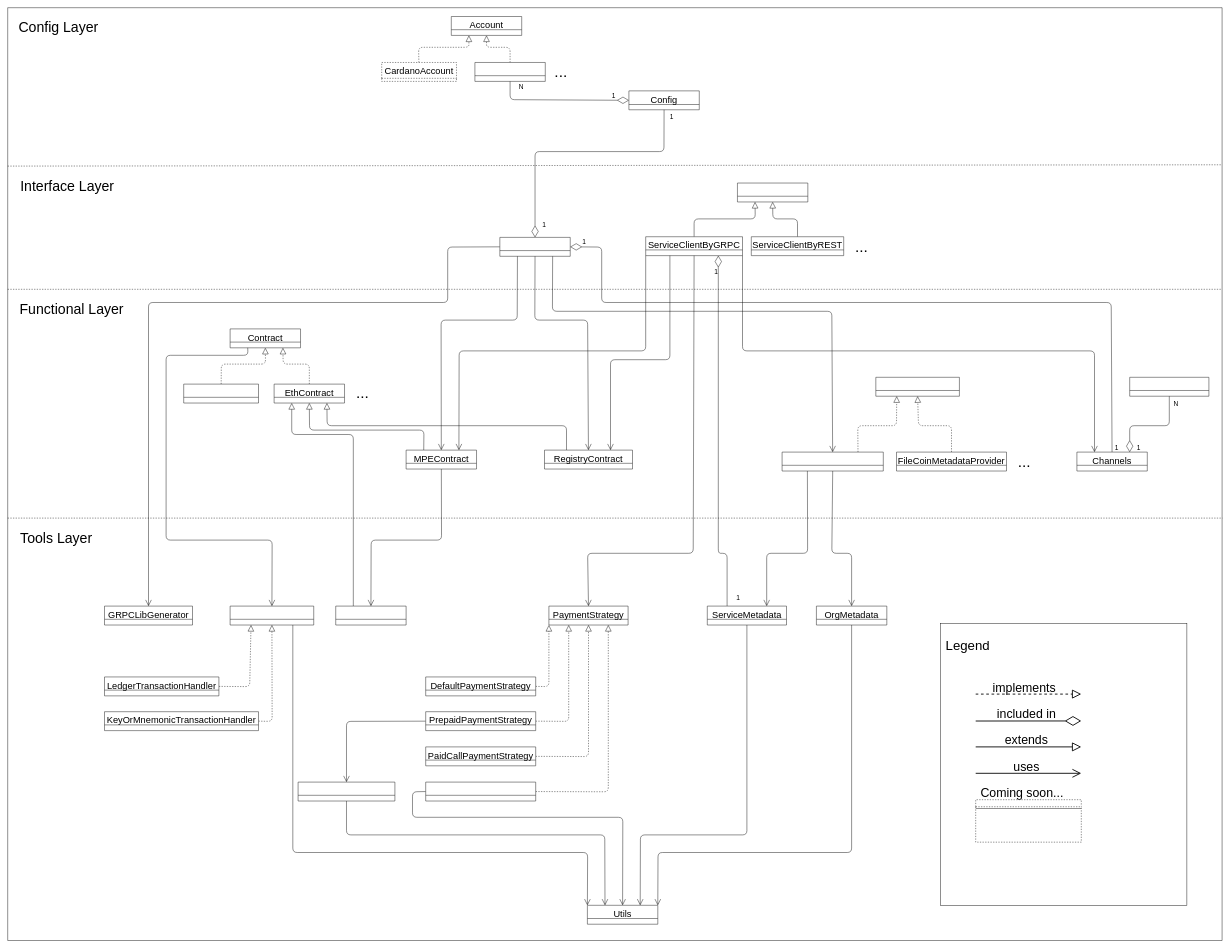
Some shapes in this 1231 by 949 pixel diagram are drawn without their labels. Each missing label, with the centre of its shape:
"AGIXContract" goes at pixel 370 615.
"CardanoContract" goes at pixel 220 393.
"ConcurrencyManager" goes at pixel 346 791.
"EthAccount" goes at pixel 509 71.
"FreeCallPaymentStrategy" goes at pixel 480 791.
"IPFSMetadataProvider" goes at pixel 832 461.
"MetadataProvider" goes at pixel 917 386.
"PaymentChannel" goes at pixel 1169 386.
"ServiceClient" goes at pixel 772 192.
"SNETEngine" goes at pixel 534 246.
"TransactionHandler" goes at pixel 272 615.
